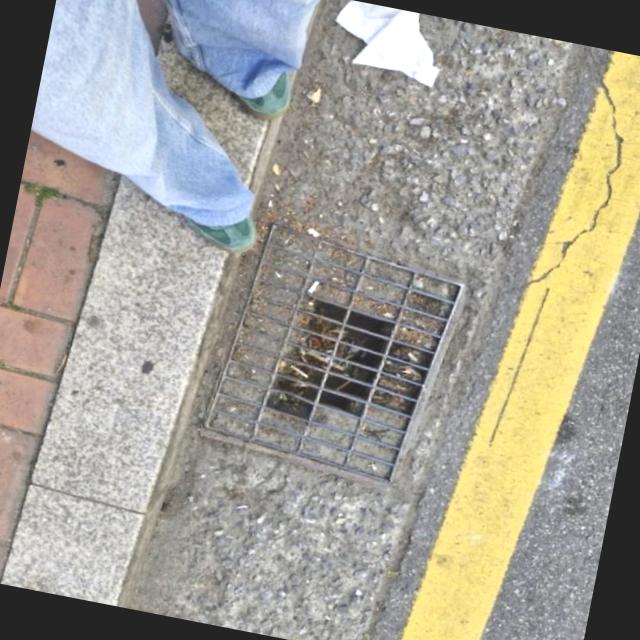drain_area: (273, 299, 395, 422)
drain_full: (205, 227, 462, 483)
